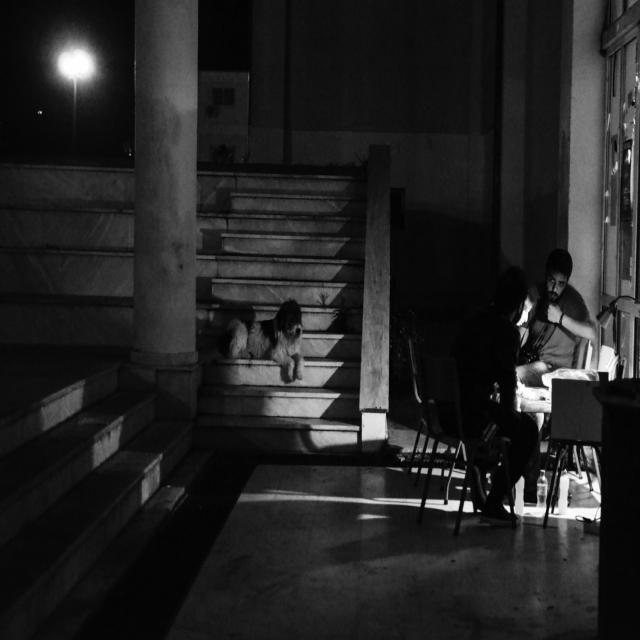Dog: (217, 303, 310, 383)
